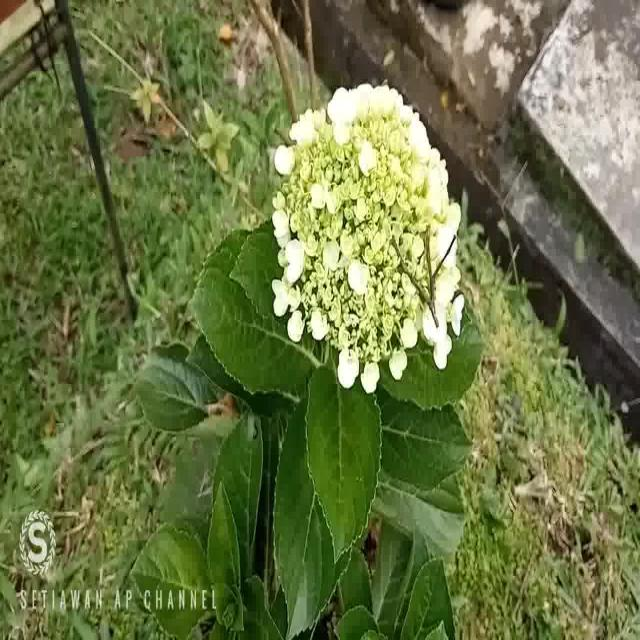Flower: (265, 86, 471, 406)
